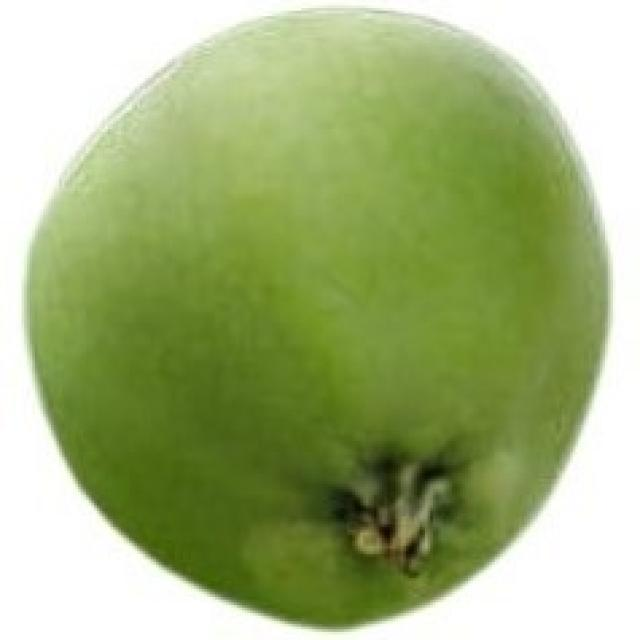apple: (28, 10, 608, 625)
